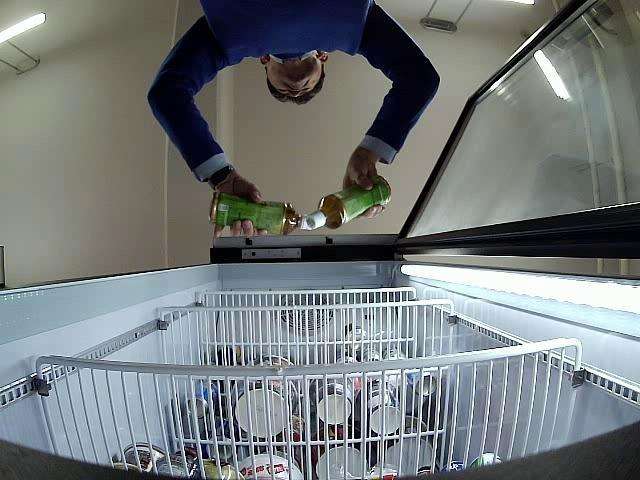19_17cha: (308, 173, 393, 230), (211, 192, 307, 236)
